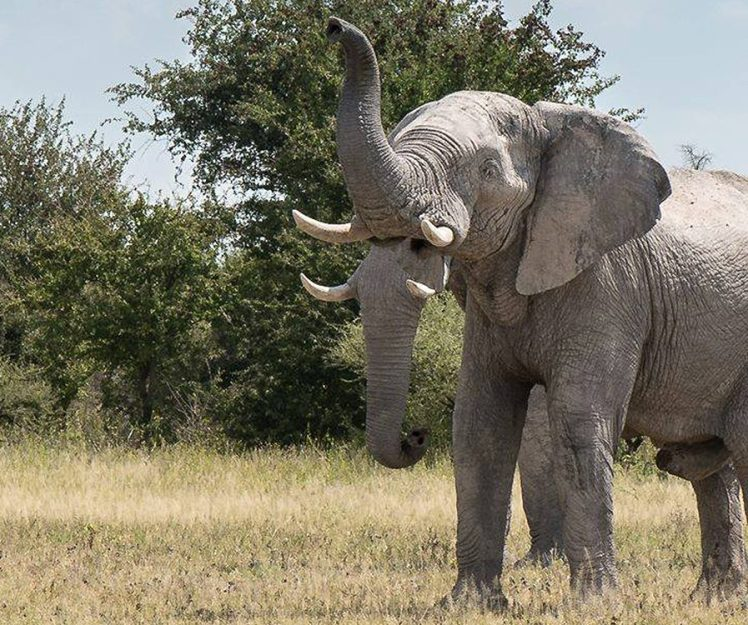elephant: (282, 14, 748, 615), (291, 205, 441, 476)
